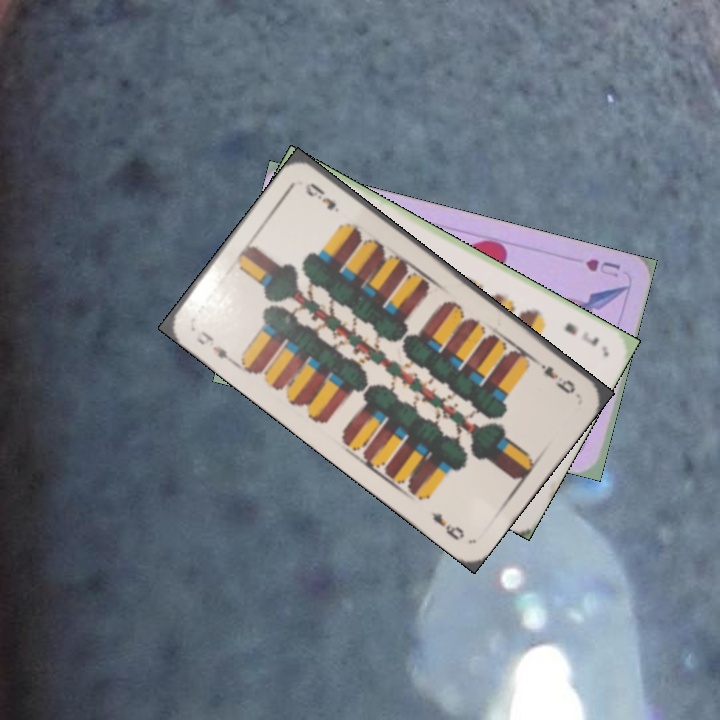E7: (560, 318, 602, 349)
E9: (532, 355, 578, 397), (192, 327, 238, 365)
HU: (581, 254, 623, 280)
